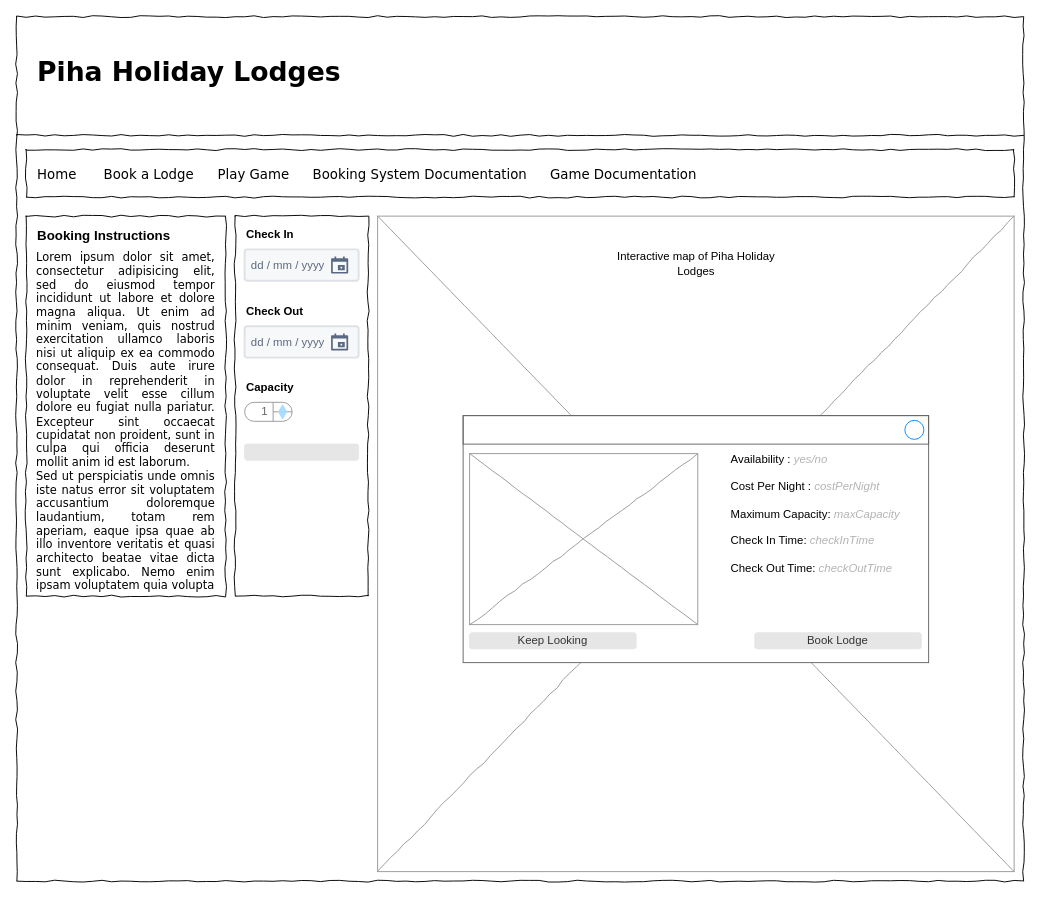
Image size: 1040x898. Some labels were removed from this diagram. The shapes that lost their labels are listed below. From the top down, each one's box as (x1, y1, x2, y2) in pixels, then its label:
(462, 415, 929, 444): Lodge Number: lodgeID
(244, 443, 359, 460): Search
(469, 453, 698, 625): Interior view of Lodge
